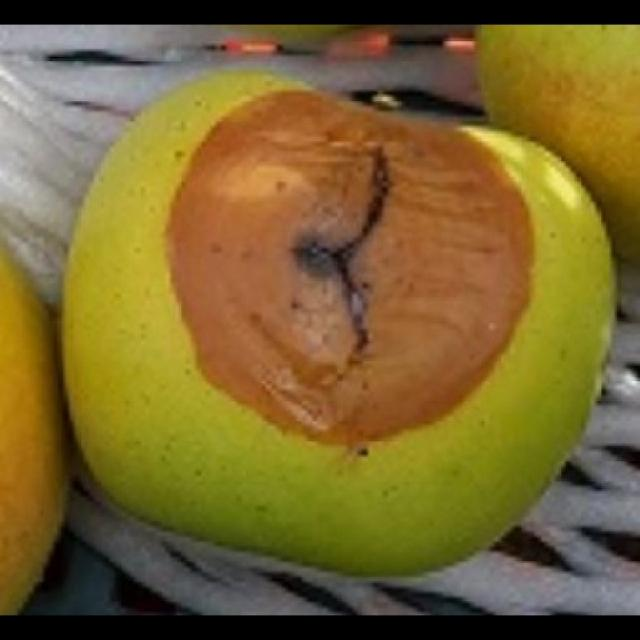Rotten Apple: (55, 66, 620, 582)
